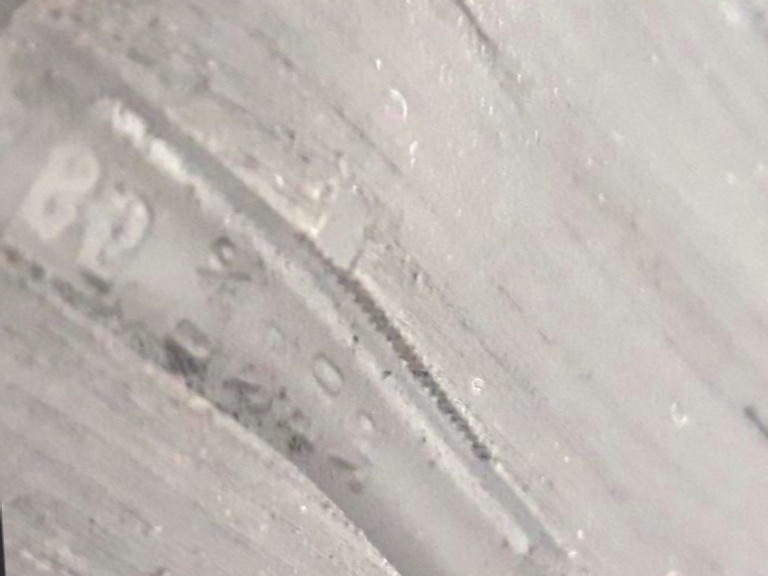temoin:0: (285, 182, 392, 308)
